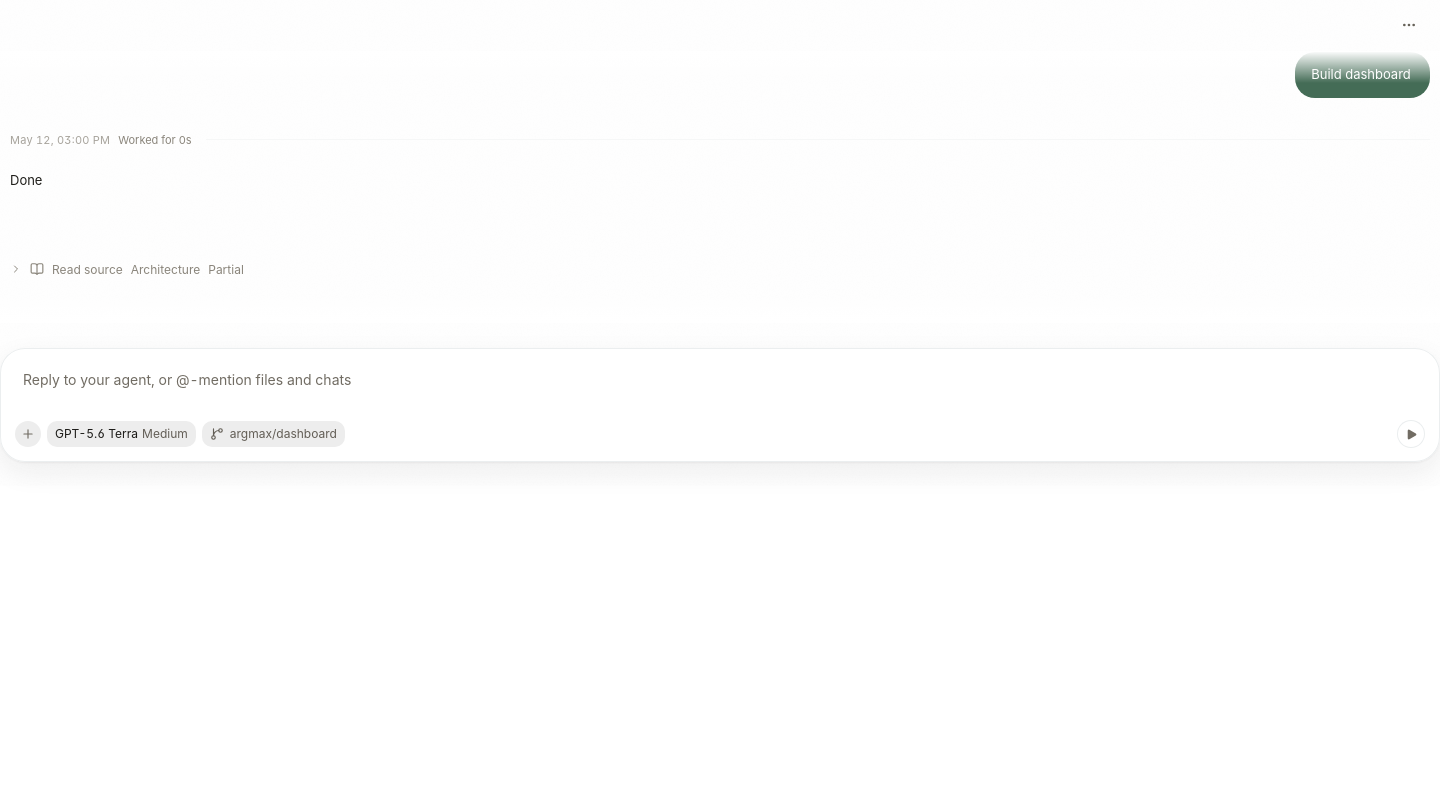
it: SessionConversation project source session note › expands a read project source note with truncated retrieval details
Click the heading named "Read project source: Architecture": (87, 269) left=10, top=262, right=244, bottom=277
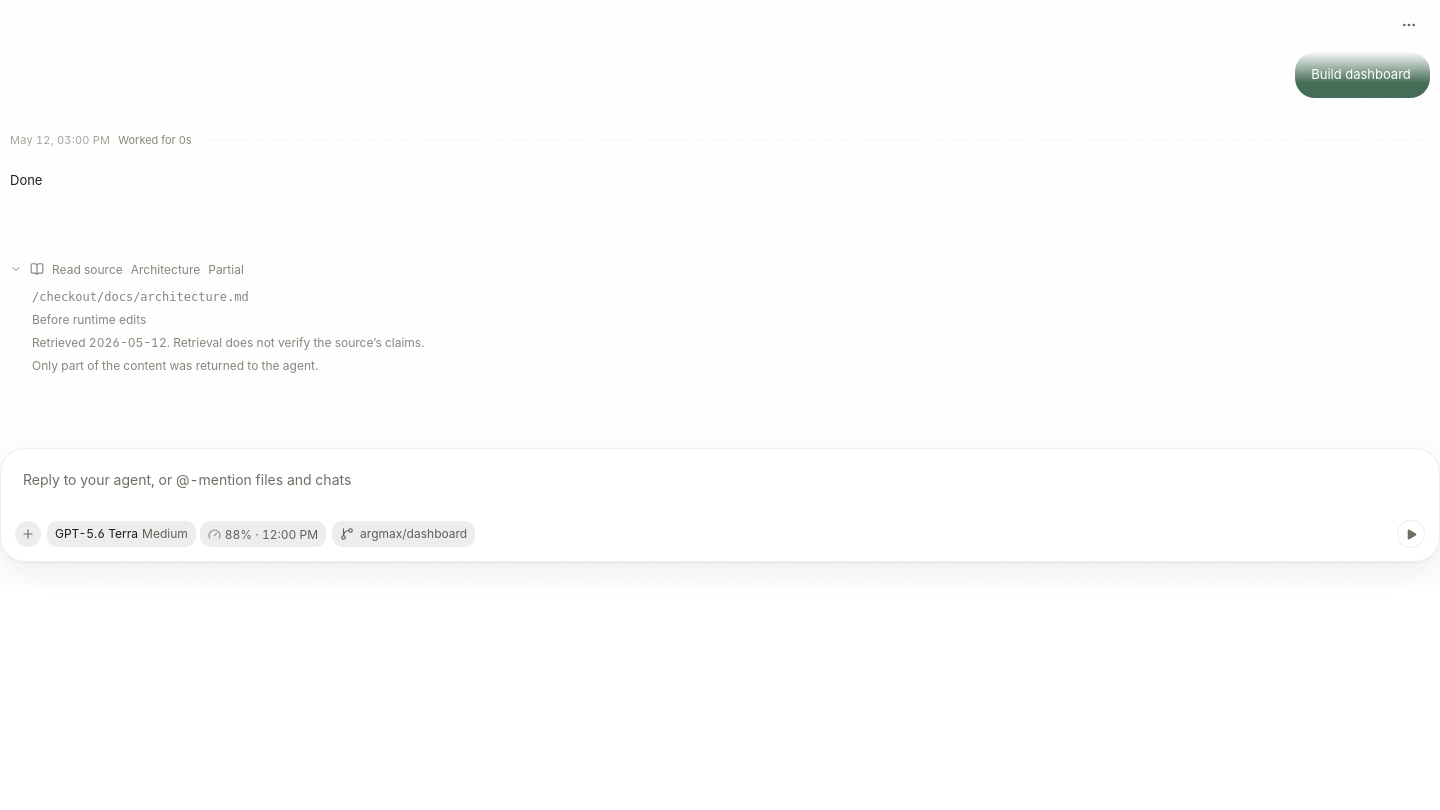
Result: the text "Only part of the content was returned to the agent." is shown at left=32, top=358, right=318, bottom=373
Result: the text "Retrieval does not verify" is shown at left=170, top=335, right=424, bottom=350
Result: the text "/checkout/docs/architecture.md" is shown at left=32, top=290, right=249, bottom=304
